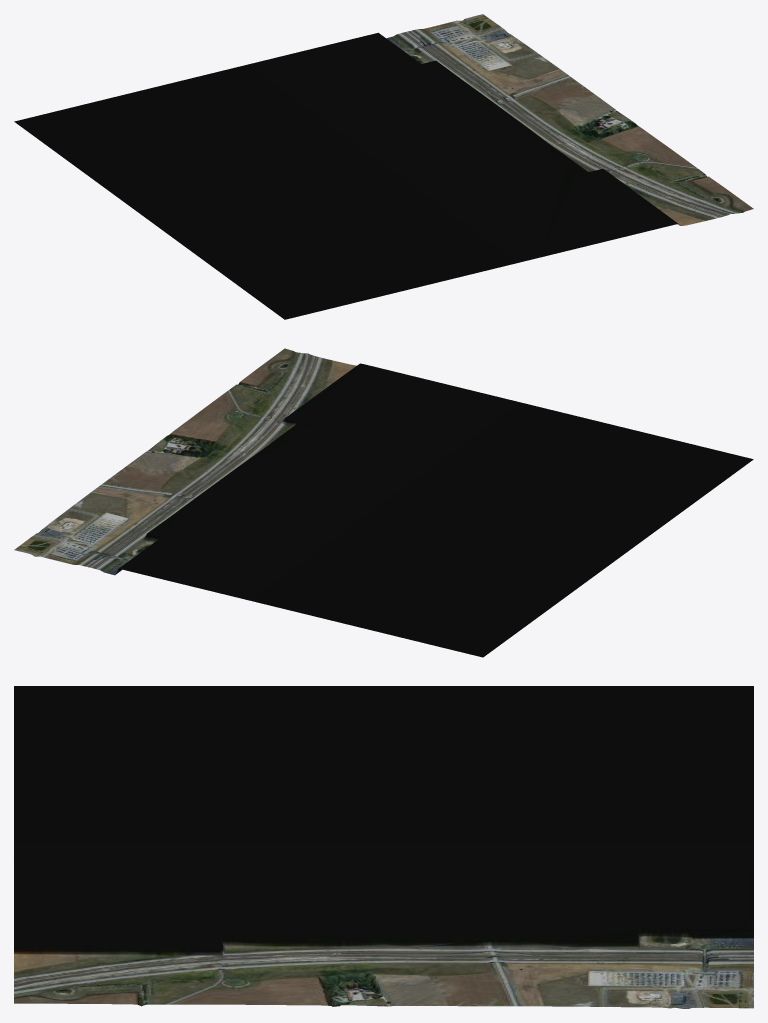
Rendered from map_10_247_424.dae.
3 renders of one model, top to bottom at view 1: azimuth 30°, elevation 25°; view 2: azimuth 150°, elevation 25°; view 3: azimuth 270°, elevation 25°, orthographic. The views are drawn at different scales.
Visible parts, largest first — view 1: Ter0; view 2: Ter0; view 3: Ter0.
Boxes of the visible parts, box(x1,y1,x2,y2) form: Ter0: box(14, 14, 753, 319); Ter0: box(14, 348, 753, 657); Ter0: box(14, 686, 753, 1008).
Bounding box in the file's own units: 2044 × 2044 × 43.2.
Materials: 2 (2 with a texture image).
